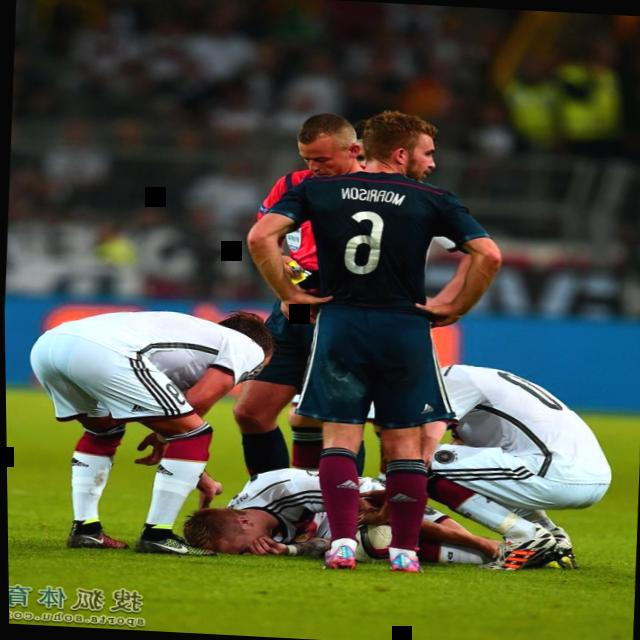Fall-Detected: (174, 448, 532, 581)
